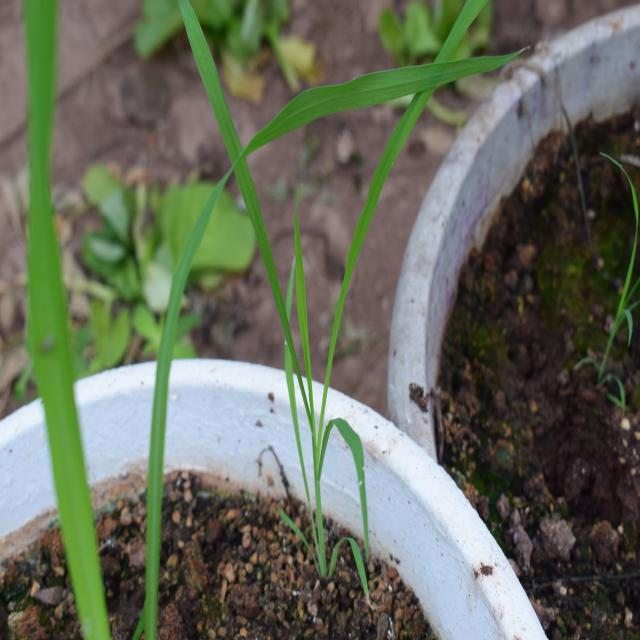barnyard_grass: (0, 18, 433, 547)
